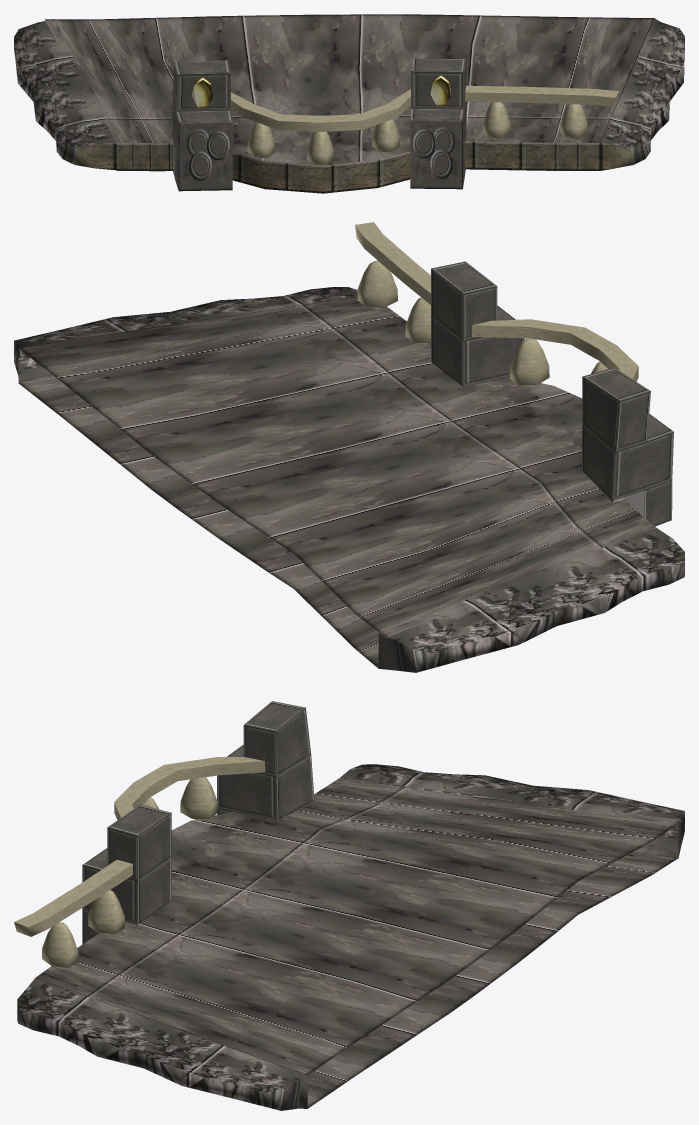
File: CH09_SMAUG_PLAYSURFACE_LAIR28.fbx
3 views of the same model, one above another, from view 1: azimuth 30°, elevation 25°; view 2: azimuth 150°, elevation 25°; view 3: azimuth 270°, elevation 25° (orthographic). The views are drawn at different scales.
Visible parts, largest first — view 1: CH09_SMAUG_PLAYSURFACE_LAIR28; view 2: CH09_SMAUG_PLAYSURFACE_LAIR28; view 3: CH09_SMAUG_PLAYSURFACE_LAIR28.
Part boxes in pixels (left/top/right/bottom): CH09_SMAUG_PLAYSURFACE_LAIR28: left=14, top=14, right=684, bottom=193; CH09_SMAUG_PLAYSURFACE_LAIR28: left=14, top=222, right=684, bottom=672; CH09_SMAUG_PLAYSURFACE_LAIR28: left=14, top=701, right=684, bottom=1110.
Bounding box in the file's own units: 131458 × 23934 × 111183.
Materials: 6 (6 with a texture image).
